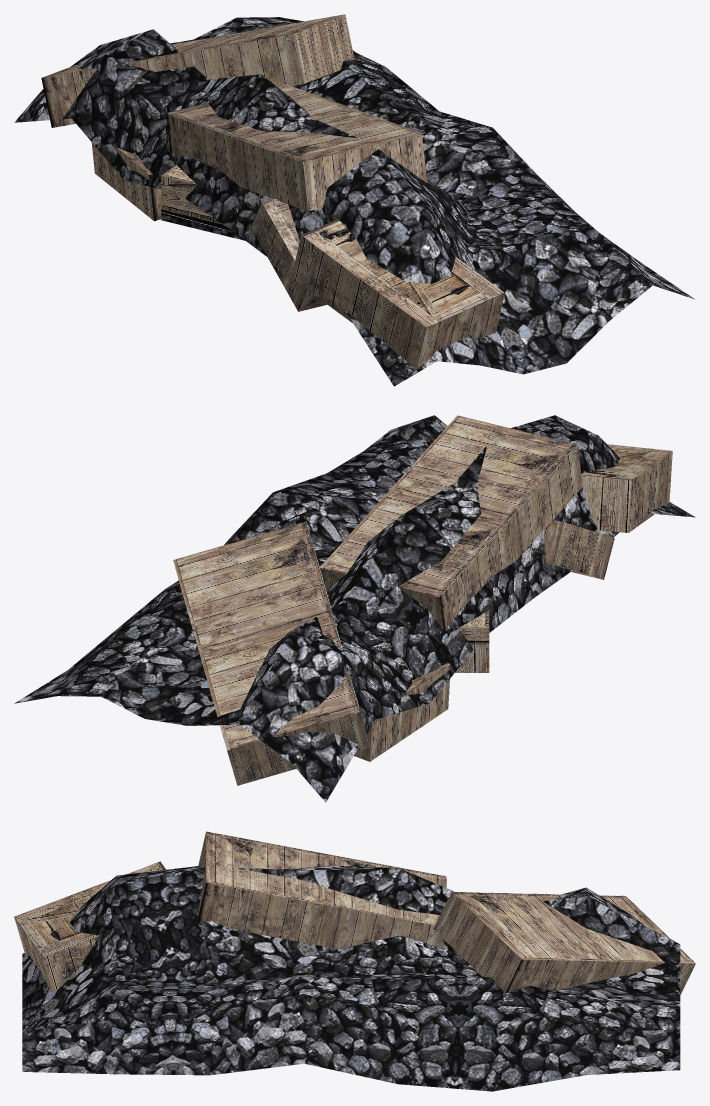
File: train_elements.fbx
The picture shows the model from 3 angles, top to bottom: view 1: azimuth 30°, elevation 25°; view 2: azimuth 150°, elevation 25°; view 3: azimuth 270°, elevation 25°; orthographic projection. The views are drawn at different scales.
Visible parts, largest first — view 1: polySurface829, polySurface843, polySurface840, polySurface844, polySurface836, polySurface842, polySurface832; view 2: polySurface829, polySurface844, polySurface843, polySurface840, polySurface832, polySurface836, polySurface842; view 3: polySurface829, polySurface843, polySurface844, polySurface840.
Part boxes in pixels (x1,y1,x2,y2): polySurface829: (14,17,695,386); polySurface843: (166,84,426,211); polySurface840: (291,219,504,369); polySurface844: (41,14,354,127); polySurface836: (251,198,326,311); polySurface842: (161,165,245,240); polySurface832: (91,142,161,221); polySurface829: (14,415,695,802); polySurface844: (173,521,370,785); polySurface843: (320,415,582,630); polySurface840: (581,444,672,532); polySurface832: (354,662,450,761); polySurface836: (544,519,614,579); polySurface842: (455,610,489,672); polySurface829: (22,865,680,1091); polySurface843: (197,831,446,948); polySurface844: (433,892,695,994); polySurface840: (14,861,165,994).
Size of the model in its own units: 2.05 by 1.01 by 4.29.
